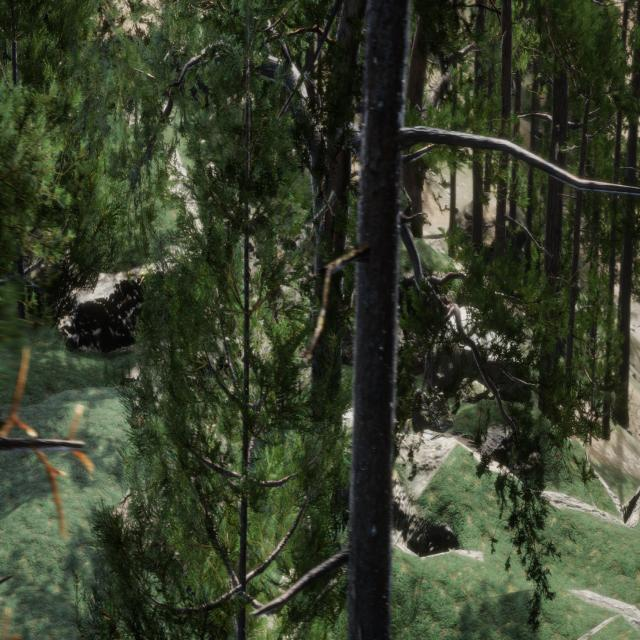Human: (245, 397, 264, 490)
